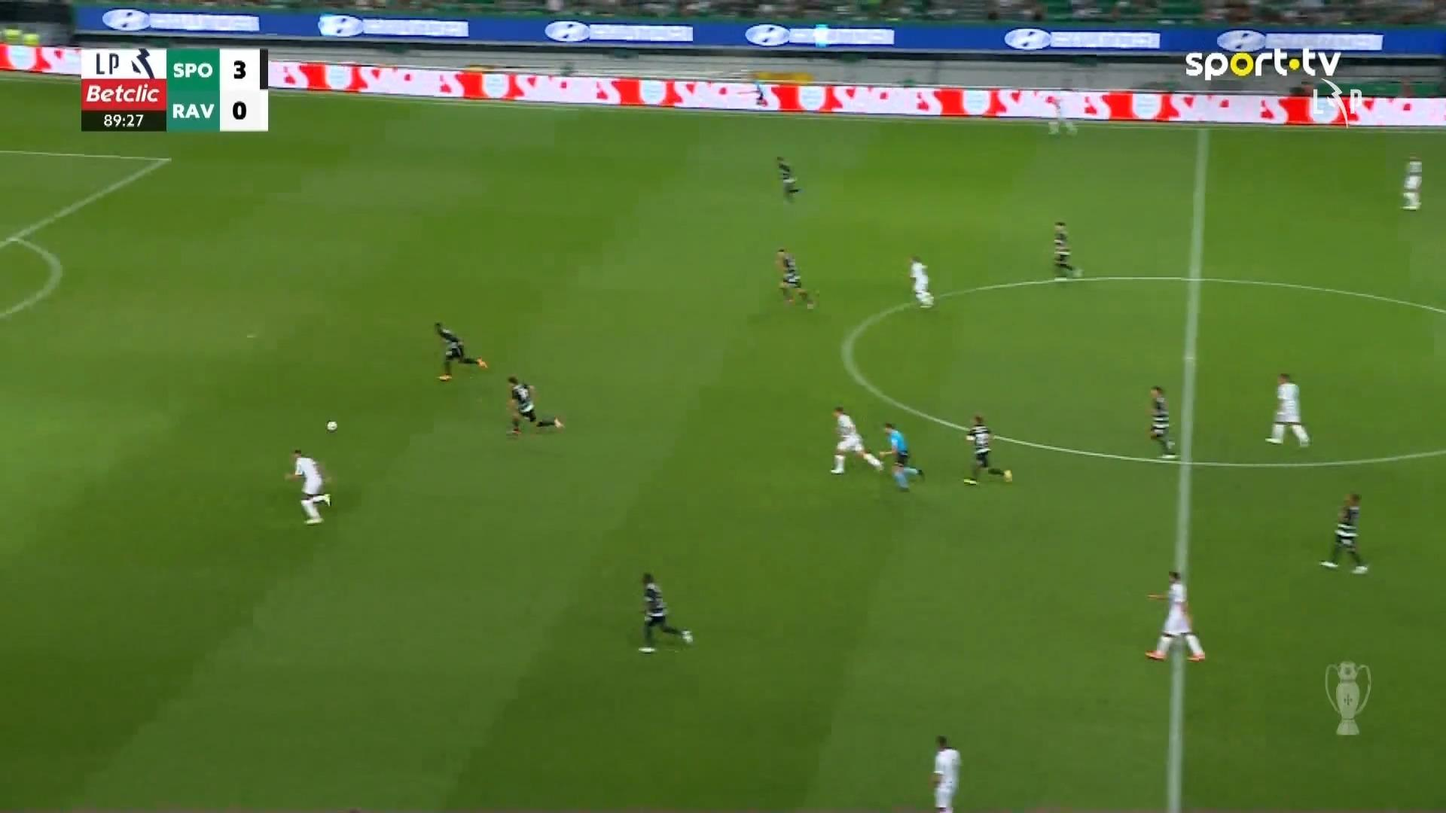ball: (325, 421, 337, 432)
player: (1144, 569, 1206, 662), (637, 571, 693, 653), (1319, 492, 1369, 574), (828, 405, 883, 474), (283, 448, 331, 525), (962, 413, 1012, 486), (505, 375, 563, 437), (1264, 371, 1310, 448), (432, 320, 487, 381), (774, 247, 817, 310), (930, 734, 961, 811), (1148, 384, 1176, 458), (1051, 220, 1079, 279), (908, 254, 935, 309), (1401, 155, 1423, 211), (774, 154, 800, 200)
referee: (877, 421, 924, 490)
